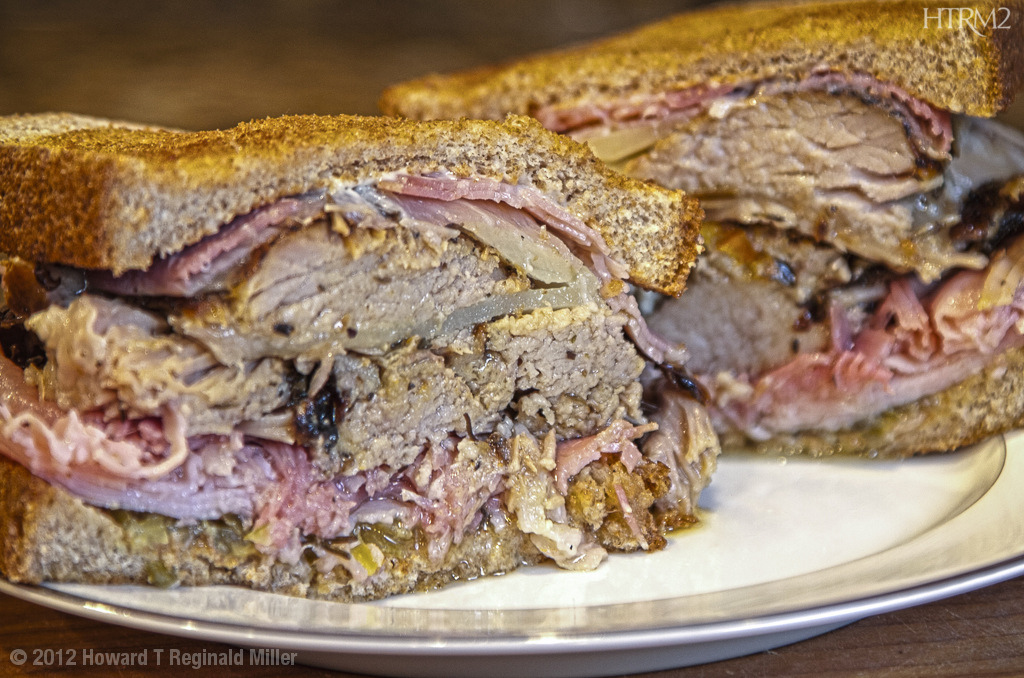slice of bread: (1, 112, 661, 261), (9, 489, 661, 598), (400, 2, 1024, 115)
